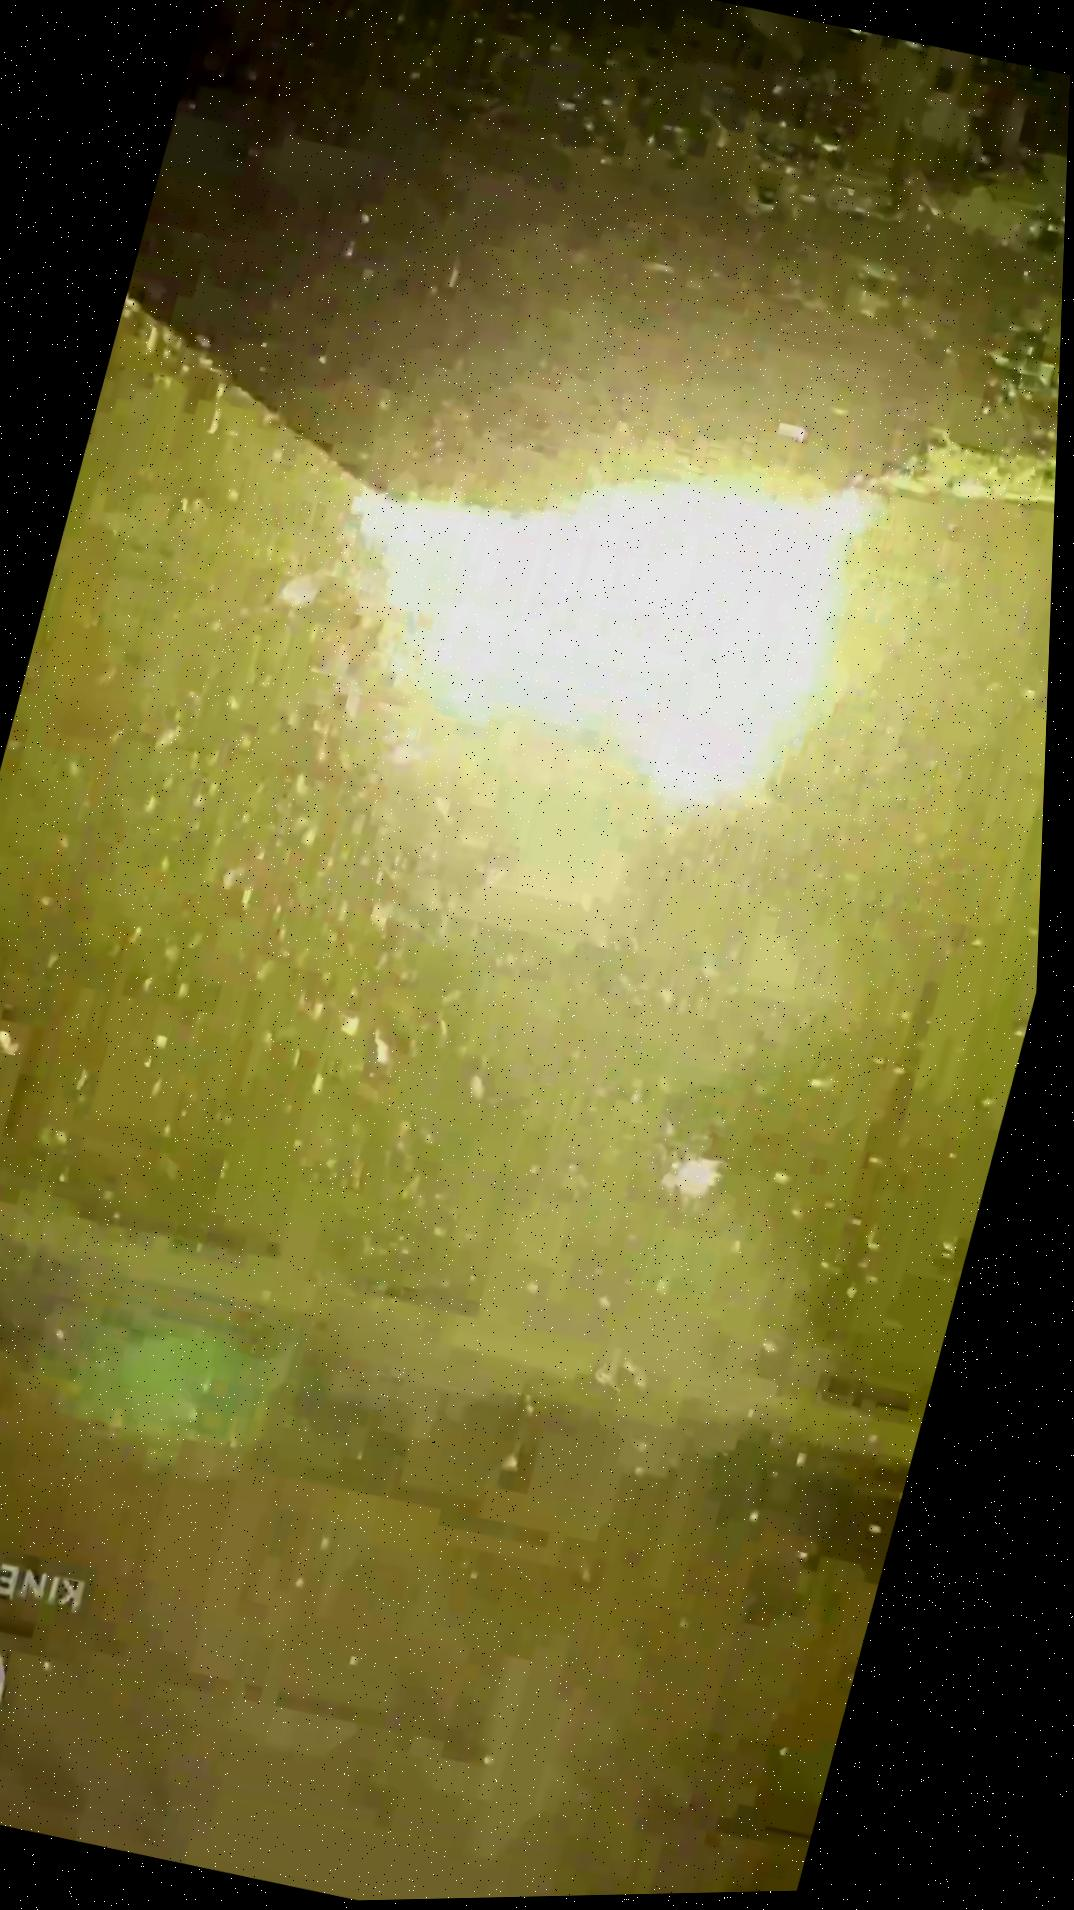fire: (108, 192, 1007, 1174)
